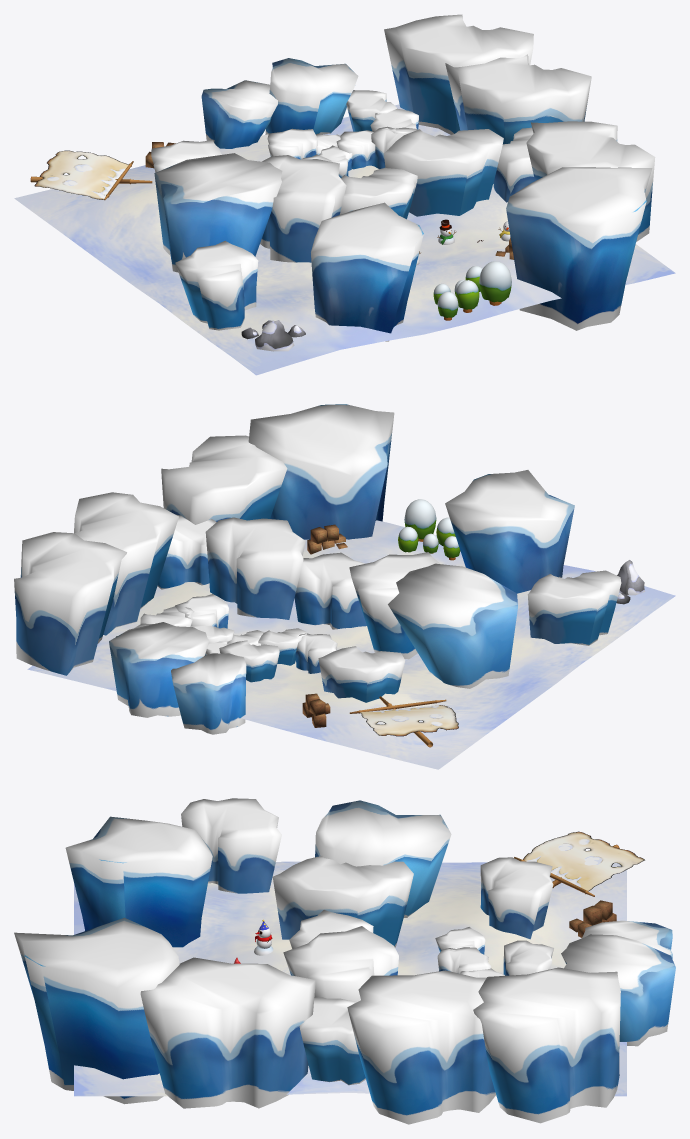
File: IceBigMap4.FBX
The picture shows the model from 3 angles, top to bottom: view 1: azimuth 30°, elevation 25°; view 2: azimuth 150°, elevation 25°; view 3: azimuth 270°, elevation 25°; orthographic projection. The views are drawn at different scales.
Visible parts, largest first — view 1: tereno1, Iceberg012, Iceberg017, Iceberg016, Iceberg008, Iceberg009, Iceberg014, Iceberg015, Iceberg011, Iceberg030, Iceberg019, Iceberg020 (+13 smaller); view 2: tereno1, Iceberg012, Iceberg008, Iceberg016, Iceberg017, Iceberg014, Iceberg011, Iceberg009, Iceberg019, Iceberg030, Iceberg020, Iceberg015 (+13 smaller); view 3: Iceberg011, tereno1, Iceberg012, Iceberg008, Iceberg009, Iceberg017, Iceberg015, Iceberg016, Iceberg019, Iceberg030, Iceberg014, Iceberg033 (+8 smaller).
Boxes of the visible parts, box(x1,y1,x2,y2) form: tereno1: box(14, 104, 675, 375); Iceberg012: box(506, 167, 652, 330); Iceberg017: box(311, 202, 423, 341); Iceberg016: box(154, 153, 282, 272); Iceberg008: box(384, 14, 533, 134); Iceberg009: box(445, 54, 591, 144); Iceberg014: box(384, 129, 503, 216); Iceberg015: box(260, 155, 346, 262); Iceberg011: box(526, 121, 655, 241); Iceberg030: box(175, 240, 258, 330); Iceberg019: box(265, 58, 358, 134); Iceberg020: box(201, 80, 277, 148); tereno1: box(27, 520, 675, 769); Iceberg012: box(248, 404, 394, 539); Iceberg008: box(14, 532, 126, 675); Iceberg016: box(388, 563, 517, 688); Iceberg017: box(445, 470, 574, 593); Iceberg014: box(205, 517, 305, 619); Iceberg011: box(161, 435, 287, 524); Iceberg009: box(74, 492, 178, 635); Iceberg019: box(109, 622, 209, 717); Iceberg030: box(527, 570, 621, 645); Iceberg020: box(171, 653, 246, 734); Iceberg015: box(349, 552, 439, 659); Iceberg011: box(140, 957, 315, 1108); tereno1: box(74, 861, 626, 1096); Iceberg012: box(14, 917, 179, 1104); Iceberg008: box(473, 967, 620, 1123); Iceberg009: box(347, 970, 495, 1124); Iceberg017: box(65, 816, 212, 947); Iceberg015: box(272, 856, 413, 947); Iceberg016: box(315, 800, 451, 917); Iceberg019: box(561, 934, 675, 1046); Iceberg030: box(181, 798, 281, 893); Iceberg014: box(283, 926, 398, 1002); Iceberg033: box(480, 857, 553, 939).
Size of the model in its own units: 580 by 133 by 598.
